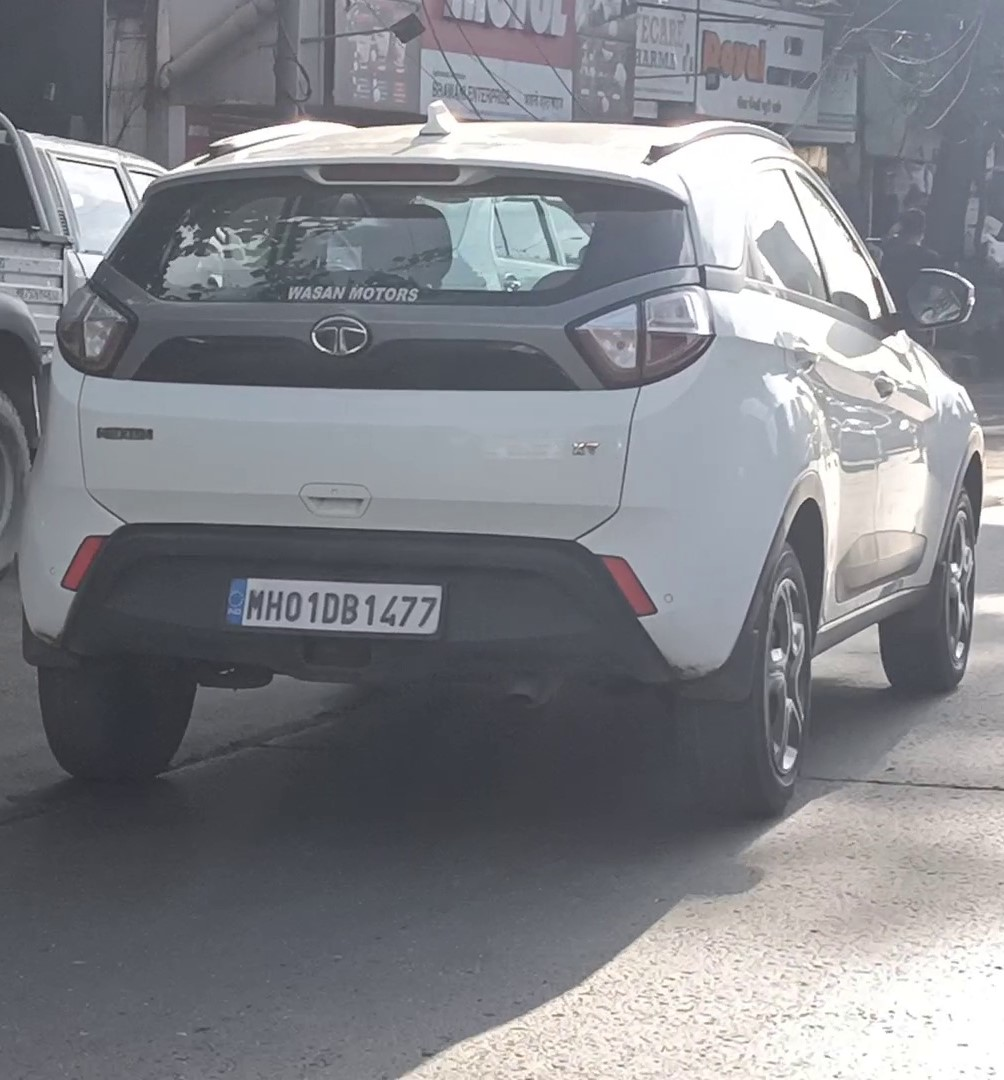MH01DB1477: (225, 575, 439, 633)
